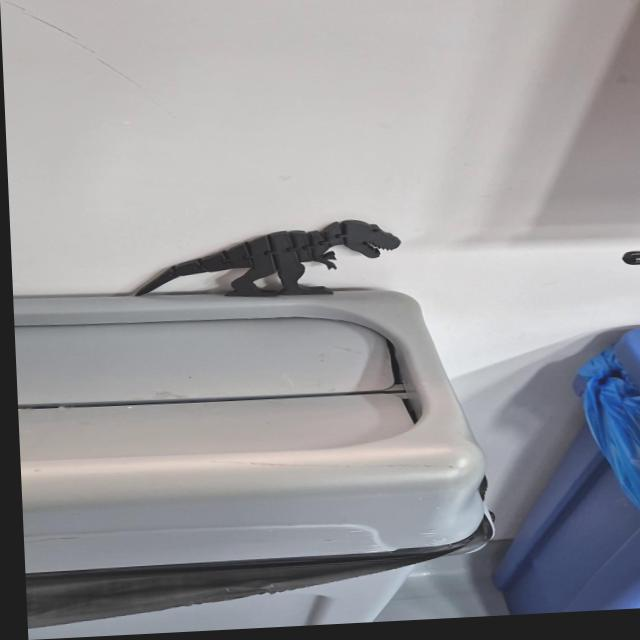dino: (131, 217, 405, 305)
